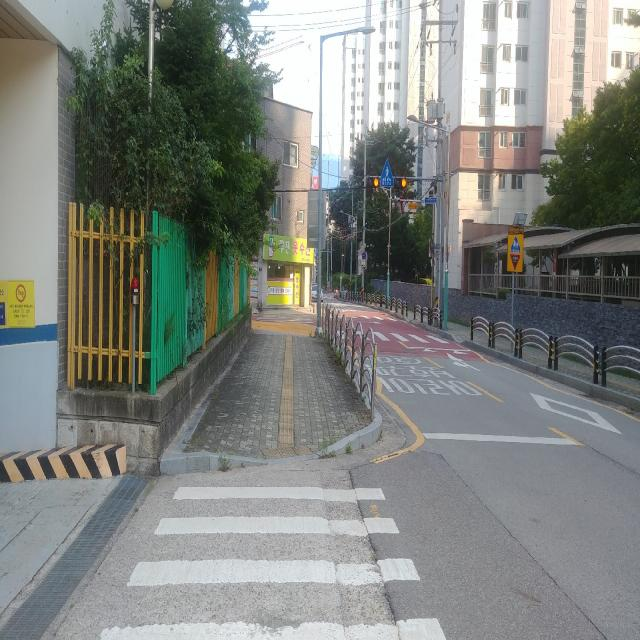횡단보도: (98, 486, 448, 639), (353, 336, 453, 346)
